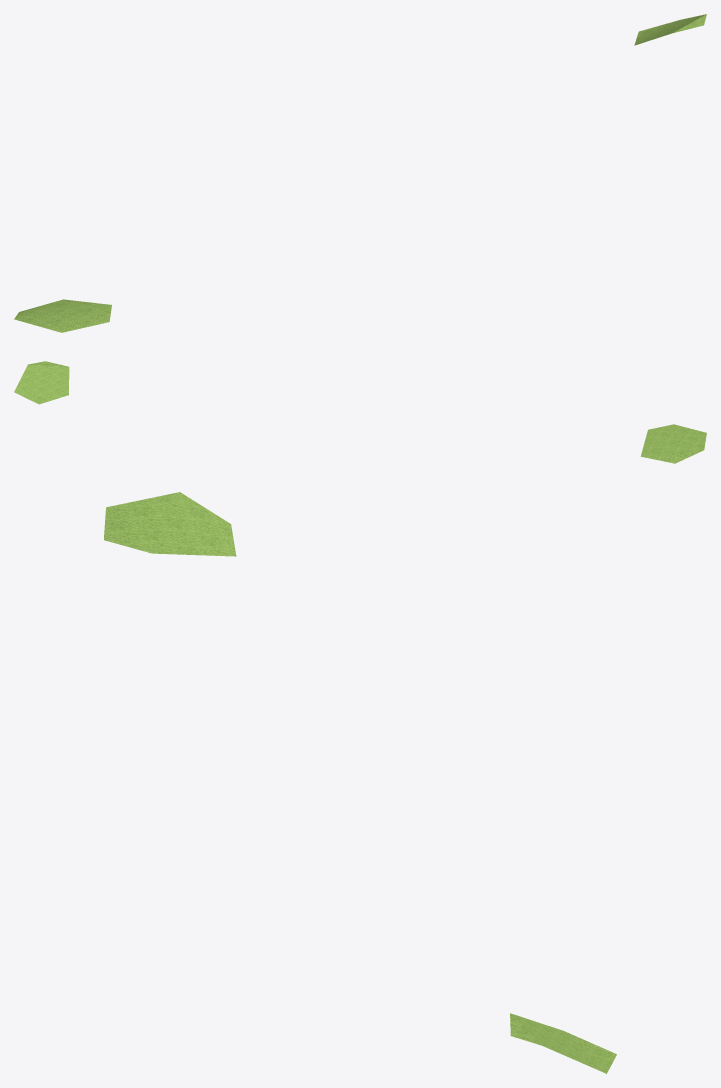
The model's file is kd_stage_1363c5_1_0.glb.
3 renders of one model, top to bottom at view 1: azimuth 30°, elevation 25°; view 2: azimuth 150°, elevation 25°; view 3: azimuth 270°, elevation 25°, orthographic. The views are drawn at different scales.
Visible parts, largest first — view 1: kd_stage_1363c5_1_0; view 2: kd_stage_1363c5_1_0; view 3: kd_stage_1363c5_1_0.
Boxes of the visible parts, x1,y1,x2,y2 form: kd_stage_1363c5_1_0: [14, 14, 706, 332]; kd_stage_1363c5_1_0: [14, 361, 706, 463]; kd_stage_1363c5_1_0: [104, 492, 616, 1073].
Size of the model in its own units: 48.31 by 1.49 by 18.33.
Materials: 1 (1 with a texture image).
